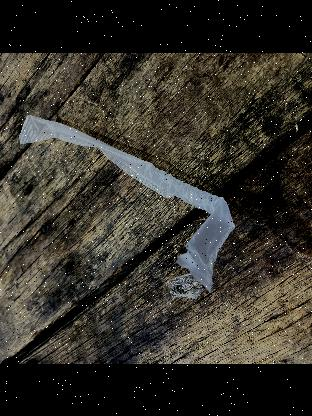Others: (14, 114, 234, 276), (168, 270, 198, 298)
